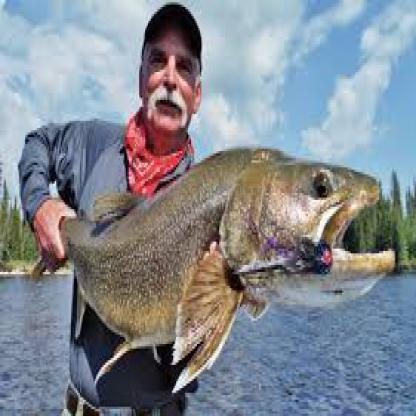fish: (26, 140, 394, 390)
